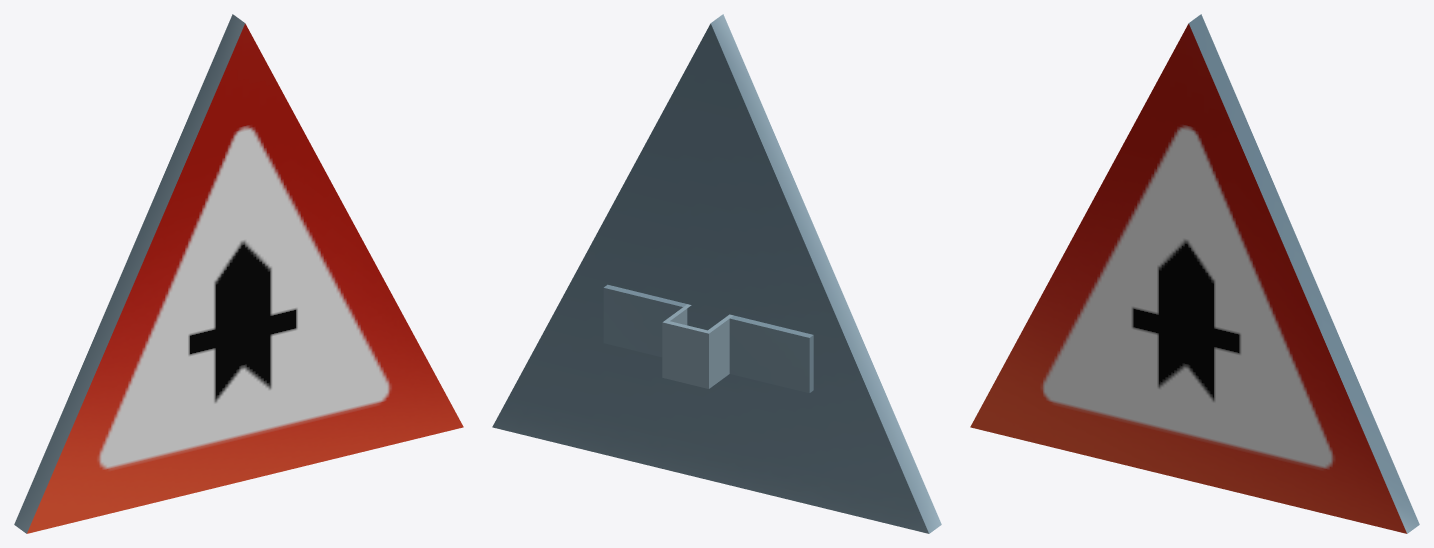
File: Sign14Austrian.fbx
3 renders of one model, left to right at view 1: azimuth 30°, elevation 25°; view 2: azimuth 150°, elevation 25°; view 3: azimuth 330°, elevation 25°, orthographic.
Parts seen in each view (by area): view 1: Sign14Austrian; view 2: Sign14Austrian; view 3: Sign14Austrian.
Boxes of the visible parts, bbox=[...] form: Sign14Austrian: bbox=[14, 14, 463, 533]; Sign14Austrian: bbox=[492, 14, 941, 533]; Sign14Austrian: bbox=[970, 14, 1419, 533].
Size of the model in its own units: 1 by 1 by 0.1489.
